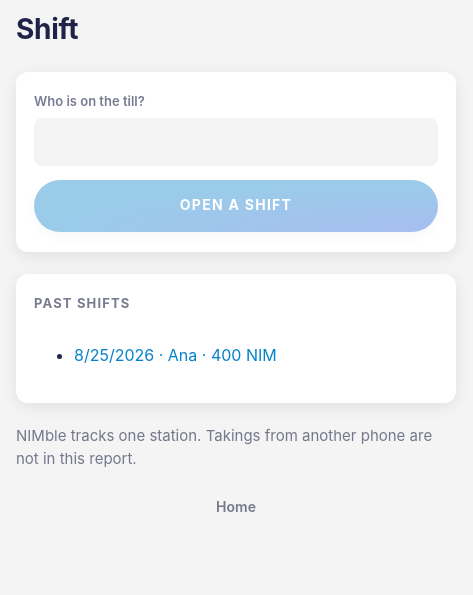
still renders a past shift report while offline
The width and height of the screenshot is (473, 595).
Click the text "Ana" at (183, 355), box x1=168 y1=345 x2=197 y2=365
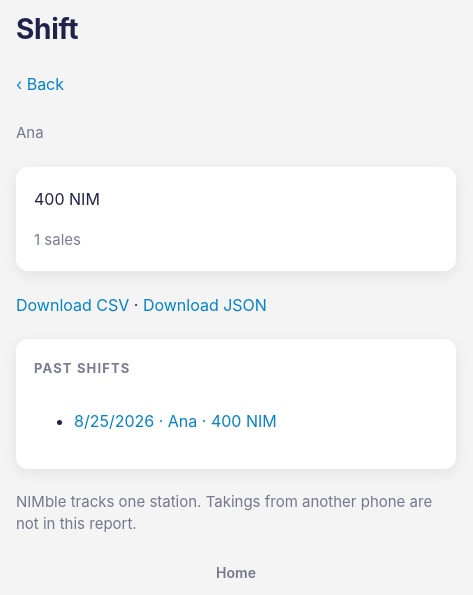
Now the 1st text "400 NIM" is shown, box x1=34 y1=188 x2=100 y2=208
